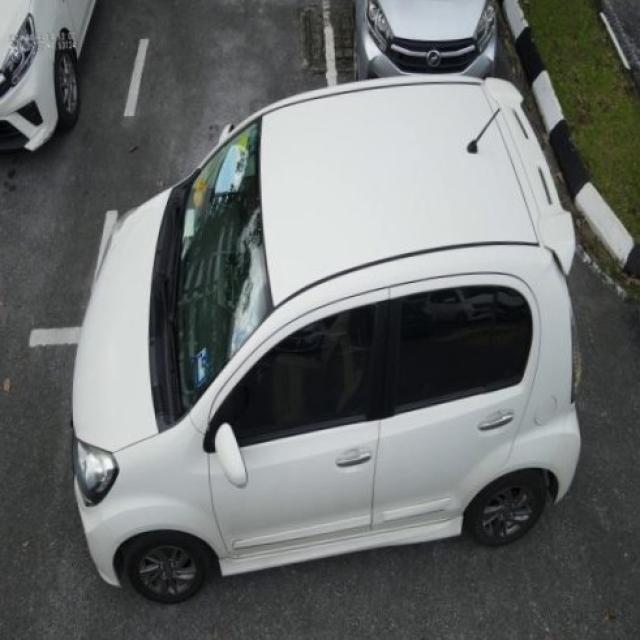Legalparking: (0, 2, 640, 154)
illegalparking: (22, 82, 640, 616)
